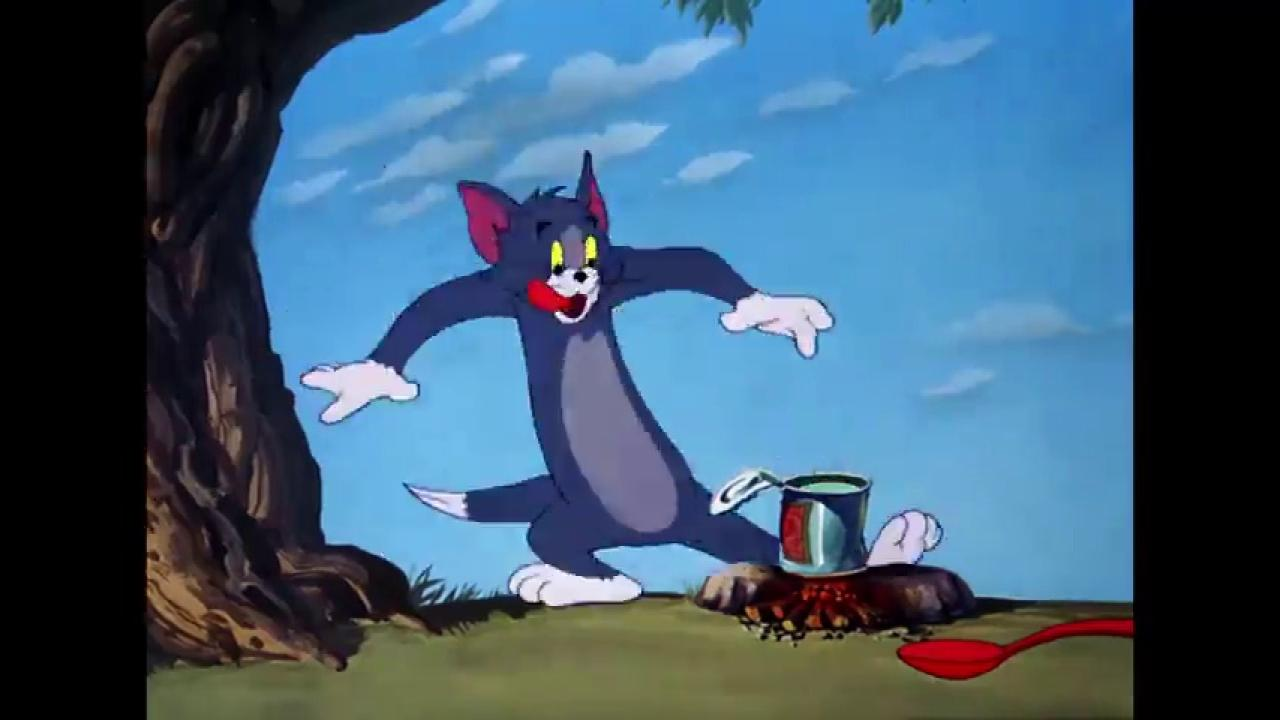Tom: (299, 147, 945, 607)
